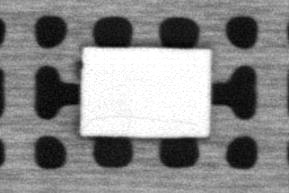DIE_CRACK: (93, 112, 198, 128)
